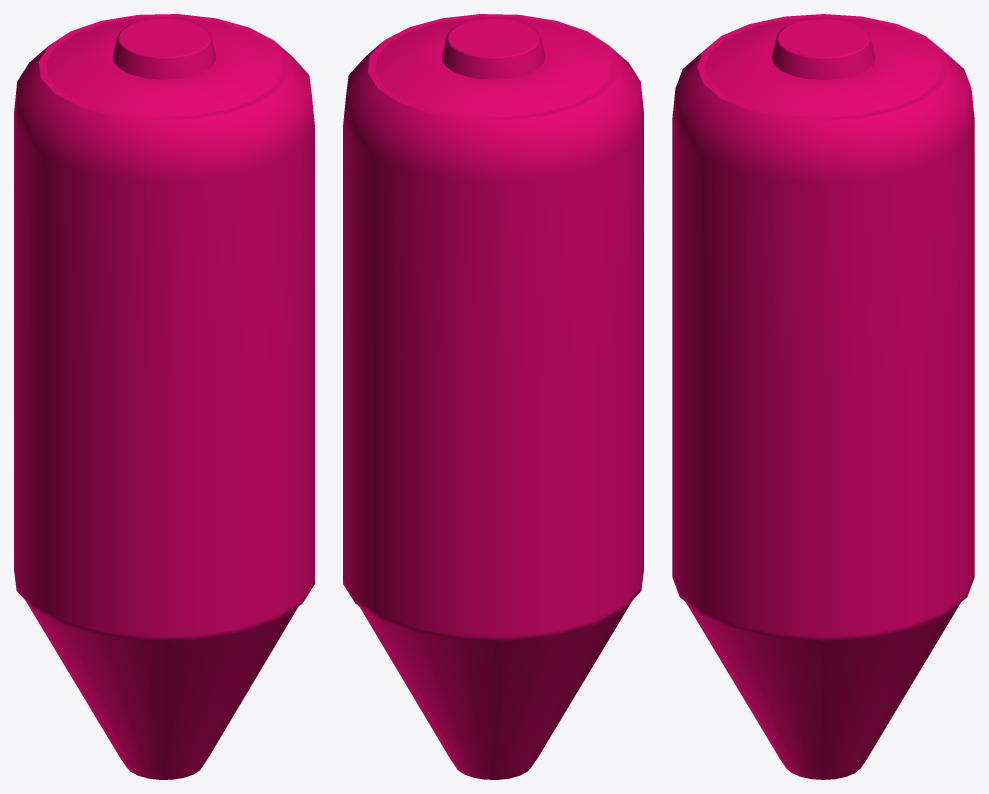
File: Factory_Silo_01B.fbx
3 views of the same model, side by side, from view 1: azimuth 30°, elevation 25°; view 2: azimuth 150°, elevation 25°; view 3: azimuth 270°, elevation 25° (orthographic).
Parts seen in each view (by area): view 1: Factory_Silo_01B; view 2: Factory_Silo_01B; view 3: Factory_Silo_01B.
Part boxes in pixels (x1,y1,x2,y2): Factory_Silo_01B: [14, 14, 314, 779]; Factory_Silo_01B: [343, 14, 643, 779]; Factory_Silo_01B: [672, 14, 974, 779].
Size of the model in its own units: 674 by 1785 by 674.
